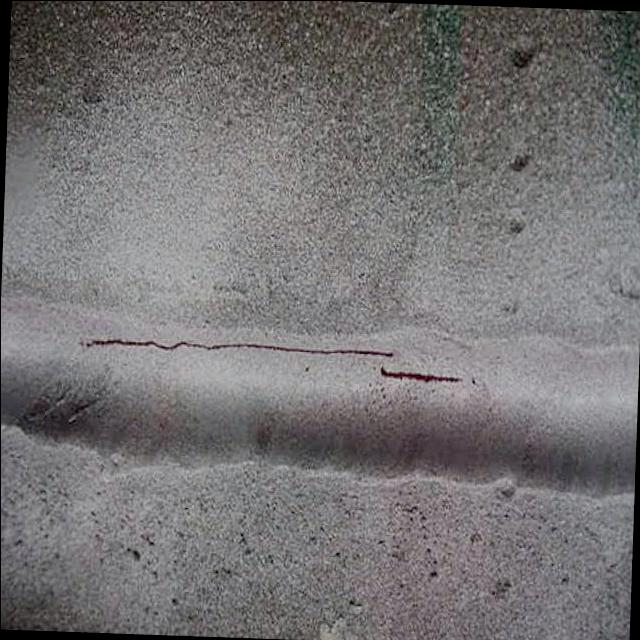defect: (71, 332, 402, 362), (377, 361, 471, 388)
